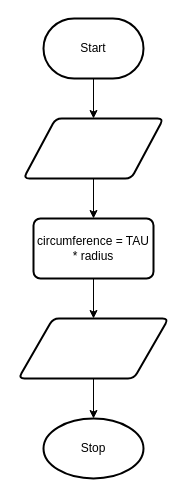
This 186x496 diagram has some shape labels left out. Here are the shapes that lost their labels. From the top down, the centre of each, then its label:
At point (93, 148): "Get Radius (store as radius)".
At point (93, 348): "Show circumference".
